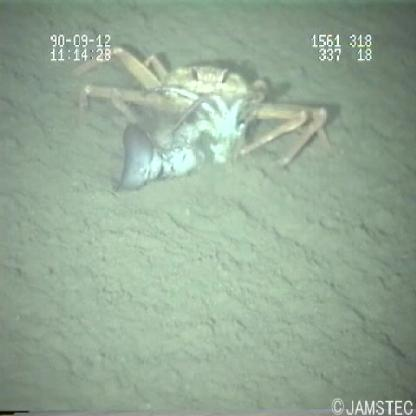Bio: (68, 42, 340, 190)
